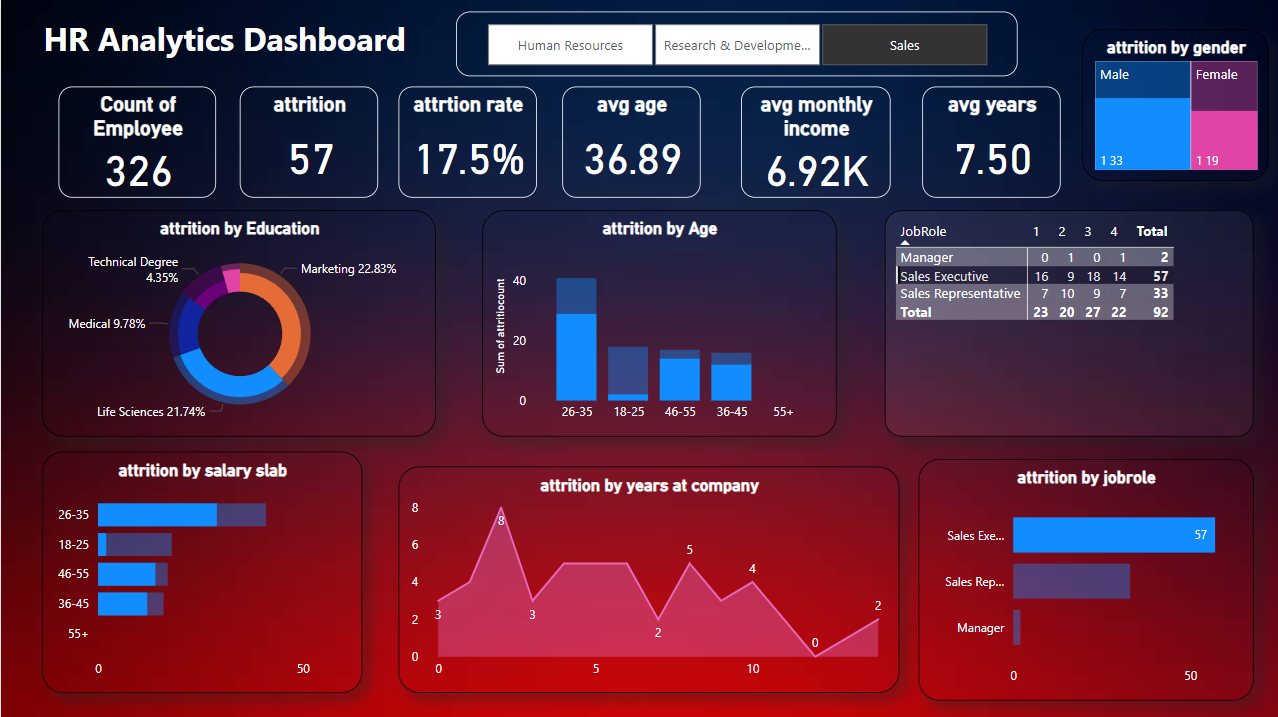

What the dashboard file says about the page in this screenshot:
{"tool":"powerbi","page":{"name":"Page 1","canvas":[1280,720],"ordinal":0},"visuals":[{"type":"card","title":"Count  of Employee","fields":{"Values":["Count(HR_Analytics.EmpID)"]},"box":[57.6,87.8,157.8,111.1],"z":0},{"type":"card","title":"attrition","fields":{"Values":["Sum(HR_Analytics.attritiocount)"]},"box":[238.8,87.8,138.6,111.1],"z":1000},{"type":"card","title":"attrtion rate","fields":{"Values":["HR_Analytics.attritionrate"]},"box":[397.9,87.8,138.6,111.1],"z":2000},{"type":"card","title":"avg age","fields":{"Values":["Avg(HR_Analytics.Age)"]},"box":[561.2,87.8,138.6,111.1],"z":3000},{"type":"card","title":"avg years","fields":{"Values":["Avg(HR_Analytics.YearsAtCompany)"]},"box":[920.8,87.8,138.6,111.1],"z":4000},{"type":"card","title":"avg monthly income","fields":{"Values":["Avg(HR_Analytics.MonthlyIncome)"]},"box":[739.6,87.8,149.6,111.1],"z":5000},{"type":"donutChart","title":"attrition by Education","fields":{"Y":["Sum(HR_Analytics.attritiocount)"],"Category":["HR_Analytics.EducationField"]},"box":[41.2,211.3,393.8,226.4],"z":6000},{"type":"columnChart","title":"attrition by Age","fields":{"Y":["Sum(HR_Analytics.attritiocount)"],"Category":["HR_Analytics.AgeGroup"]},"box":[481.6,211.3,354,226.4],"z":7000},{"type":"pivotTable","fields":{"Rows":["HR_Analytics.JobRole"],"Columns":["HR_Analytics.JobSatisfaction"],"Values":["Sum(HR_Analytics.attritiocount)"]},"box":[883.7,211.3,369.1,226.4],"z":8000},{"type":"barChart","title":"attrition by Age","fields":{"Category":["HR_Analytics.AgeGroup"],"Y":["Sum(HR_Analytics.attritiocount)"]},"box":[41.2,452.8,319.7,241.5],"z":9000},{"type":"barChart","title":"attrition by jobrole","fields":{"Y":["Sum(HR_Analytics.attritiocount)"],"Category":["HR_Analytics.JobRole"]},"box":[918,459.7,334.8,241.5],"z":10000},{"type":"areaChart","title":"attrition by Age","fields":{"Category":["HR_Analytics.YearsAtCompany"],"Y":["Sum(HR_Analytics.attritiocount)"]},"box":[397.9,467.9,500.9,226.4],"z":11000},{"type":"treemap","title":"attrition by Age","fields":{"Values":["Sum(HR_Analytics.attritiocount)"],"Group":["HR_Analytics.Gender"],"Details":["HR_Analytics.attritiocount"]},"box":[1081.3,30.2,186.6,152.3],"z":12000},{"type":"slicer","fields":{"Values":["HR_Analytics.Department"]},"box":[322.5,12.3,694.3,64.5],"z":13000}]}

Visuals, with their boxes in screenshot pixels (x1, y1, x2, y2), scaled from the page's 1280x720 canvas onto the 1278x717 screenshot:
"Count  of Employee" card: (x1=58, y1=87, x2=215, y2=198)
"attrition" card: (x1=238, y1=87, x2=377, y2=198)
"attrtion rate" card: (x1=397, y1=87, x2=536, y2=198)
"avg age" card: (x1=560, y1=87, x2=699, y2=198)
"avg years" card: (x1=919, y1=87, x2=1058, y2=198)
"avg monthly income" card: (x1=738, y1=87, x2=888, y2=198)
"attrition by Education" donutChart: (x1=41, y1=210, x2=434, y2=436)
"attrition by Age" columnChart: (x1=481, y1=210, x2=834, y2=436)
pivotTable - HR_Analytics.JobRole x HR_Analytics.JobSatisfaction: (x1=882, y1=210, x2=1251, y2=436)
"attrition by Age" barChart: (x1=41, y1=451, x2=360, y2=691)
"attrition by jobrole" barChart: (x1=917, y1=458, x2=1251, y2=698)
"attrition by Age" areaChart: (x1=397, y1=466, x2=897, y2=691)
"attrition by Age" treemap: (x1=1080, y1=30, x2=1266, y2=182)
slicer - HR_Analytics.Department: (x1=322, y1=12, x2=1015, y2=76)
